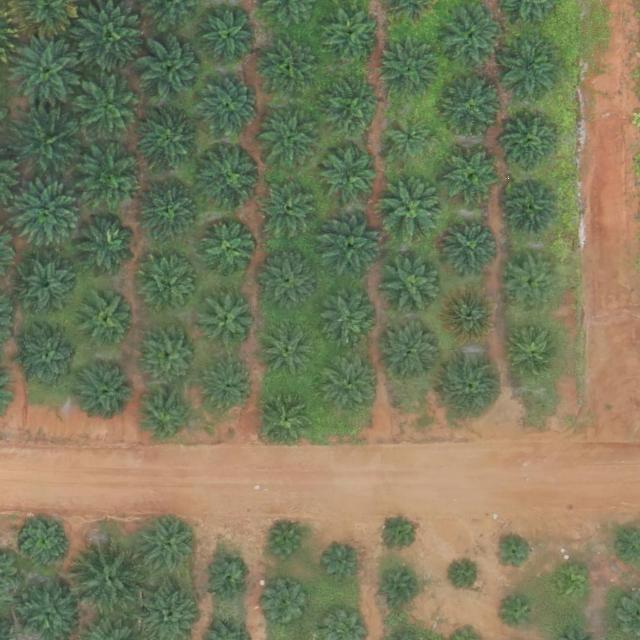Kelapa_Sawit: (70, 537, 148, 615), (10, 182, 80, 253), (73, 0, 143, 70), (74, 74, 144, 144), (10, 33, 80, 103), (8, 107, 78, 177), (11, 575, 75, 640), (382, 179, 444, 242), (319, 4, 381, 67), (320, 76, 382, 139), (319, 216, 381, 279), (259, 37, 321, 100), (258, 105, 320, 168), (257, 178, 319, 241), (256, 251, 318, 314), (195, 74, 257, 137), (199, 145, 261, 208), (138, 37, 200, 100), (137, 109, 199, 172), (138, 178, 200, 241), (80, 143, 142, 206), (317, 349, 379, 412), (380, 254, 442, 317), (379, 319, 441, 382), (441, 353, 503, 416), (497, 35, 559, 97), (438, 5, 500, 67), (439, 76, 501, 138), (379, 37, 441, 99), (74, 213, 136, 275), (18, 326, 80, 388), (75, 358, 137, 420), (139, 324, 201, 386), (136, 514, 198, 576), (138, 579, 198, 639), (446, 149, 501, 204), (442, 218, 497, 273), (200, 223, 255, 278), (16, 259, 71, 314), (200, 293, 255, 348), (201, 359, 256, 414), (261, 322, 316, 377), (259, 391, 314, 446), (442, 287, 497, 342), (508, 326, 563, 381), (503, 118, 557, 173), (504, 178, 558, 233), (503, 257, 557, 312), (322, 146, 376, 201), (202, 10, 256, 65), (141, 259, 195, 314), (80, 291, 134, 346), (139, 389, 193, 444), (326, 289, 380, 344), (386, 118, 432, 165), (22, 518, 68, 565), (202, 555, 248, 602), (263, 581, 309, 627), (316, 607, 366, 640), (379, 513, 418, 552), (380, 568, 419, 607), (551, 565, 590, 604), (266, 523, 304, 562), (322, 543, 360, 582), (494, 532, 532, 571), (497, 595, 535, 634), (451, 560, 482, 591)
